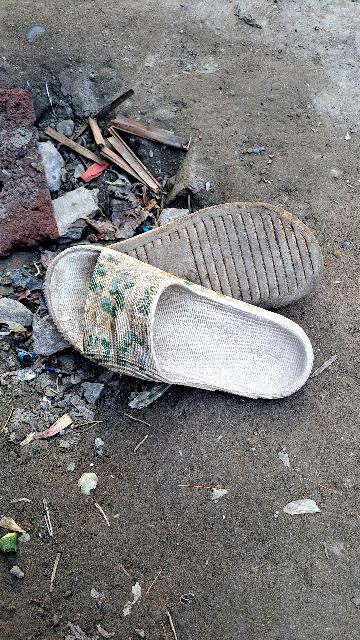sandal: (35, 229, 337, 427), (126, 177, 341, 335)
